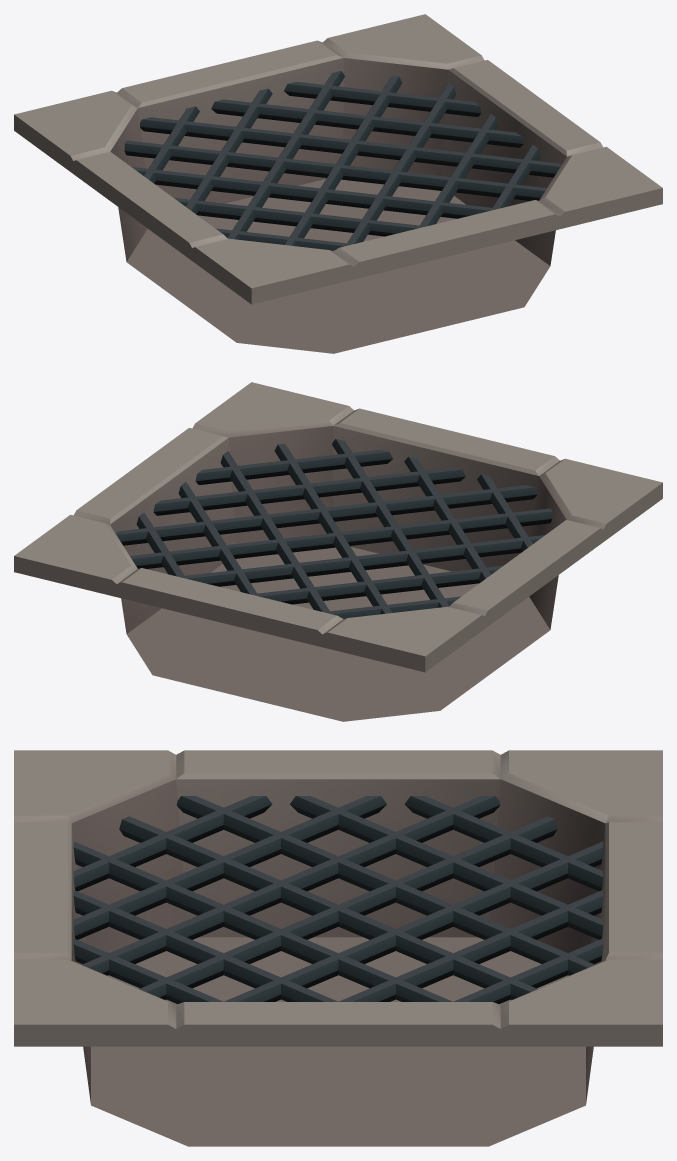
File: dungeon-floor-grate.glb
3 renders of one model, top to bottom at view 1: azimuth 30°, elevation 25°; view 2: azimuth 150°, elevation 25°; view 3: azimuth 270°, elevation 25°, orthographic. The views are drawn at different scales.
Visible parts, largest first — view 1: dungeon-floor-grate; view 2: dungeon-floor-grate; view 3: dungeon-floor-grate.
Boxes of the visible parts, x1=… form: dungeon-floor-grate: x1=14, y1=14, x2=662, y2=353; dungeon-floor-grate: x1=14, y1=382, x2=662, y2=721; dungeon-floor-grate: x1=14, y1=750, x2=662, y2=1146.
Bounding box in the file's own units: 3 × 0.7875 × 3.
Materials: 1 (1 with a texture image).
